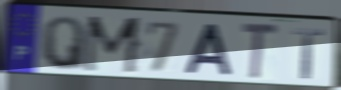7: (144, 20, 181, 75)
A: (182, 22, 235, 78)
M: (81, 14, 145, 76)
Q: (40, 15, 87, 73)
T: (240, 20, 281, 82), (292, 27, 327, 81)
